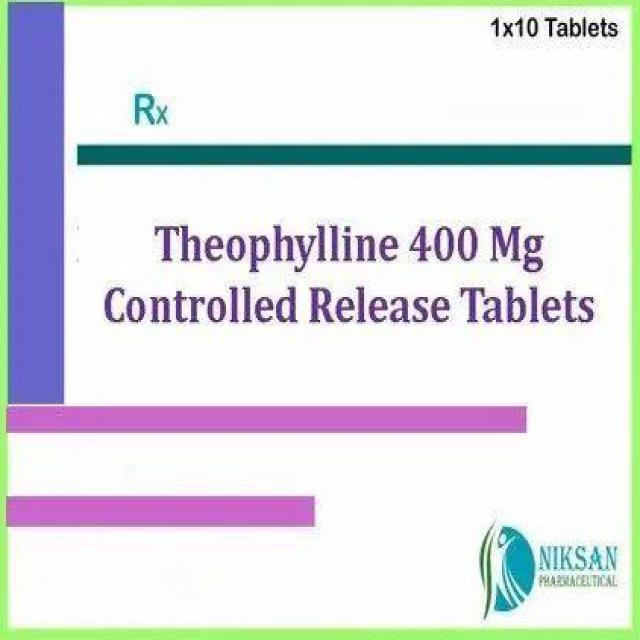drug-name: (146, 218, 404, 277)
